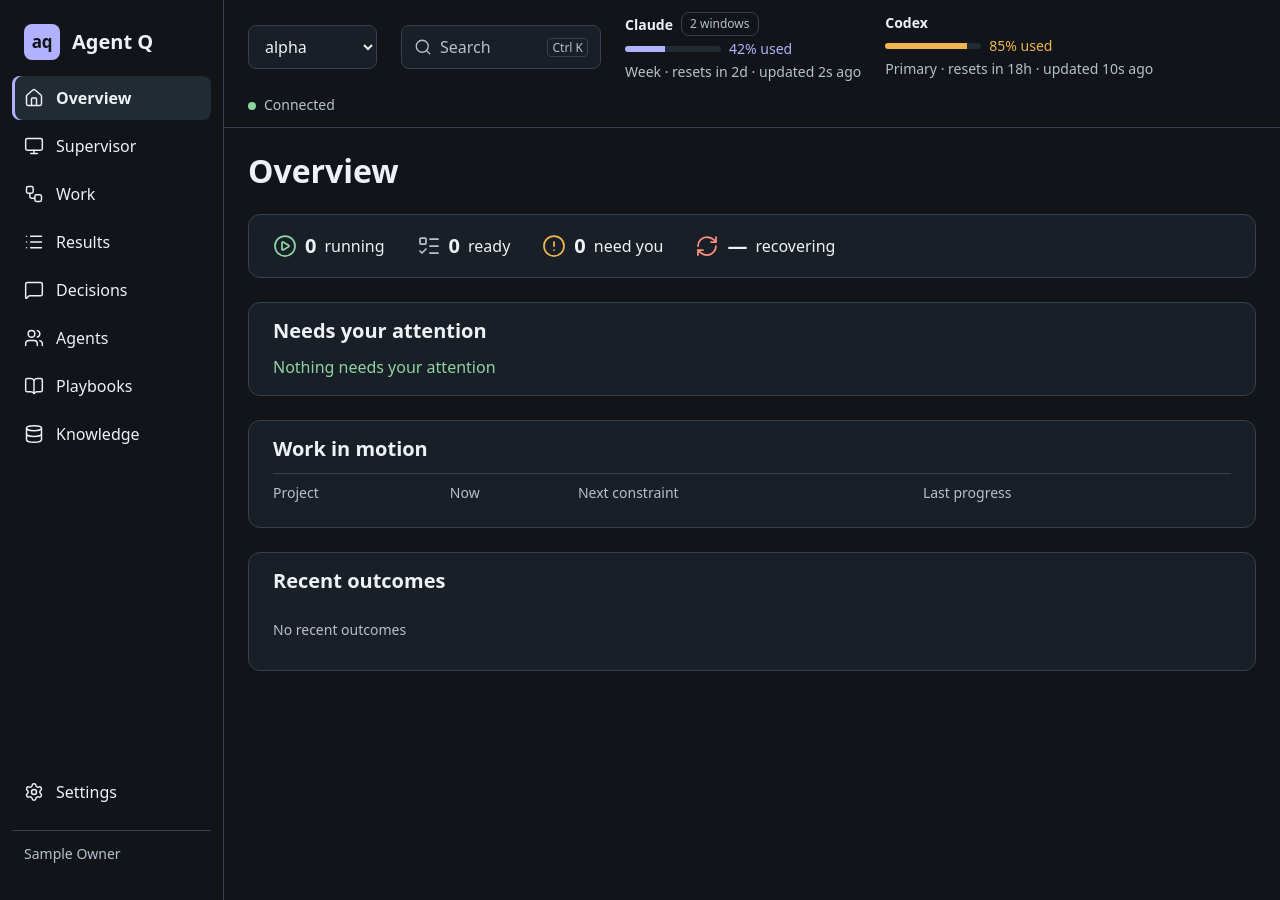
Scenario: keeps project scope in the URL across navigation
The width and height of the screenshot is (1280, 900).
Click the link "Work" at (60, 194), box [24,183,95,205]
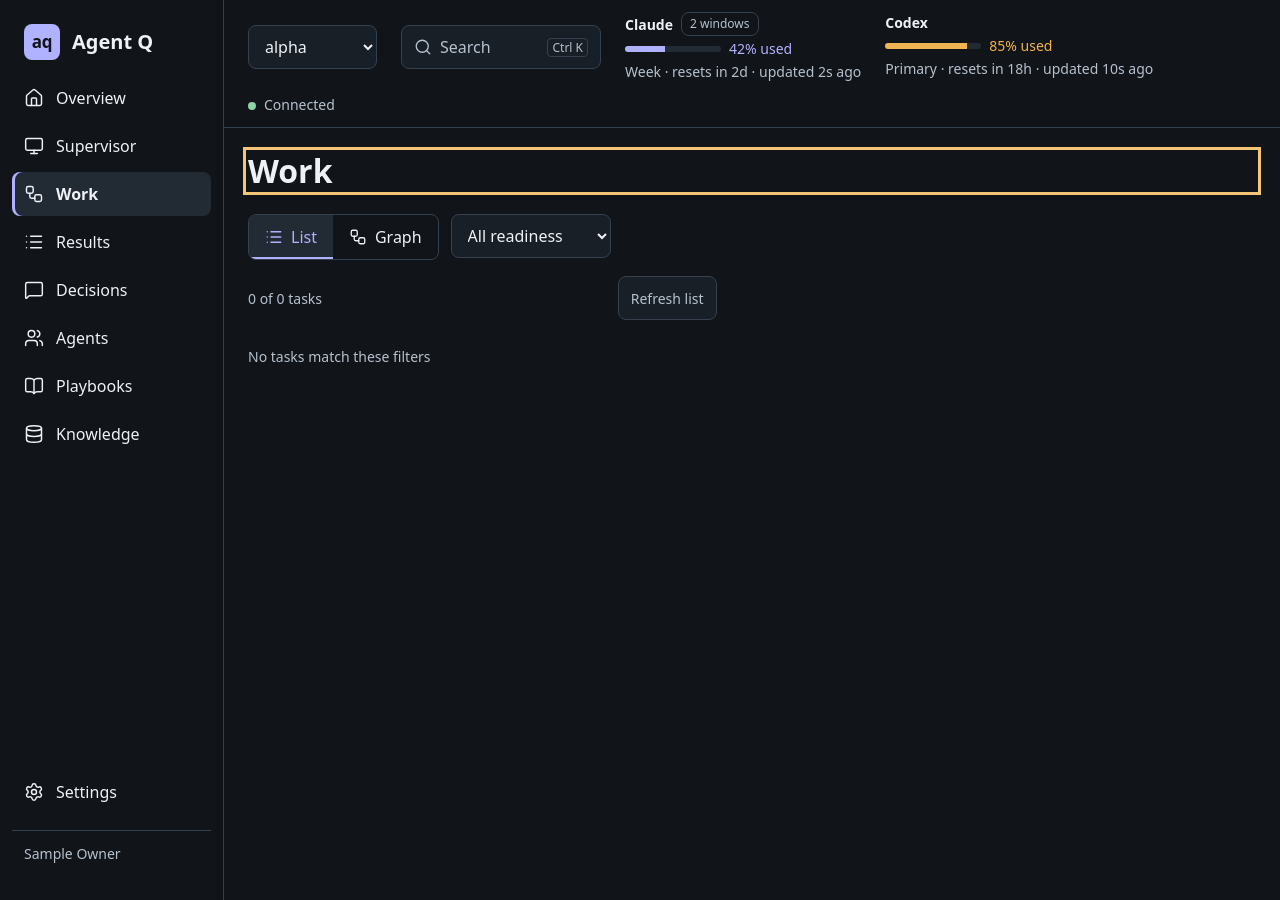
Result: the heading "Work" is shown at [248,149,332,192]
